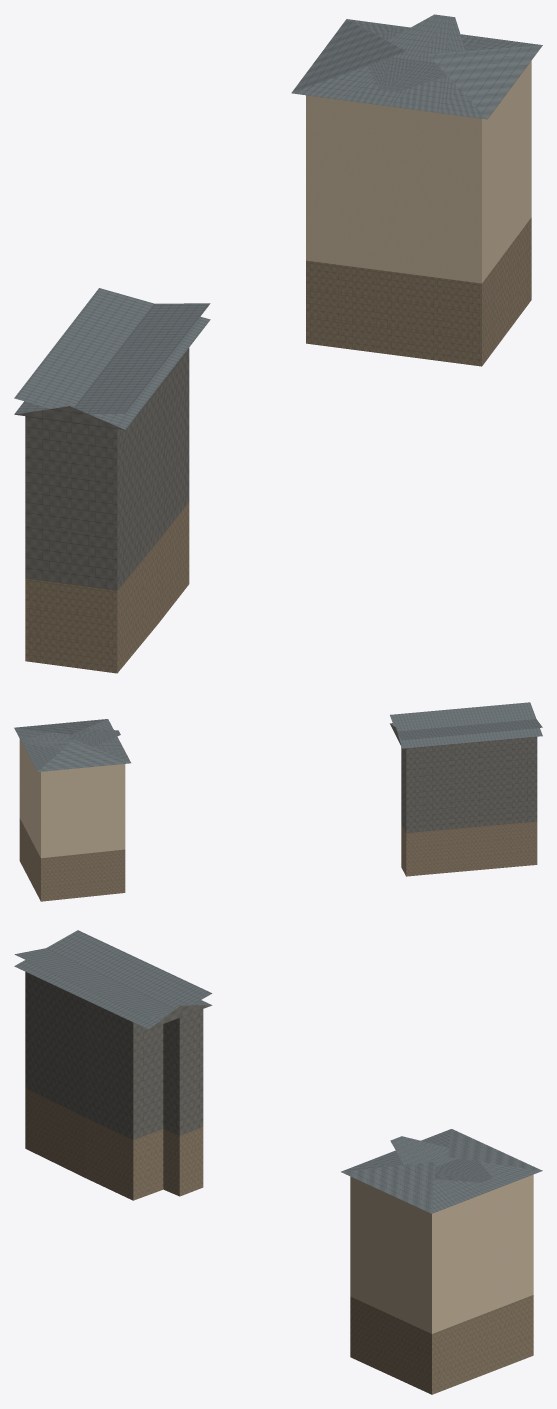
The model's file is bld_c17_28_386.gltf.
3 renders of one model, top to bottom at view 1: azimuth 30°, elevation 25°; view 2: azimuth 150°, elevation 25°; view 3: azimuth 270°, elevation 25°, orthographic. The views are drawn at different scales.
Visible parts, largest first — view 1: bld_c17_28_386; view 2: bld_c17_28_386; view 3: bld_c17_28_386.
Part boxes in pixels (x1=…): bld_c17_28_386: x1=14, y1=14, x2=542, y2=673; bld_c17_28_386: x1=14, y1=702, x2=542, y2=901; bld_c17_28_386: x1=14, y1=930, x2=542, y2=1394.
Bounding box in the file's own units: 49.53 × 16.6 × 40.19.
Materials: 5 (5 with a texture image).
